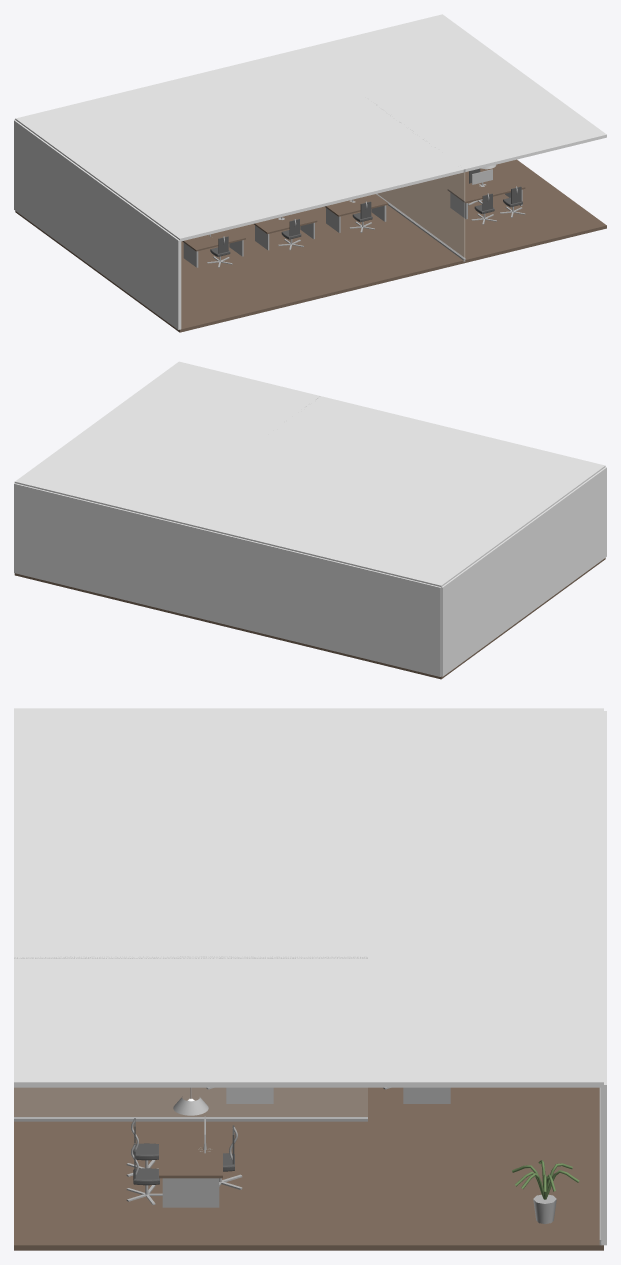
Rendered from a-fully-furnished-modern-architectural-office-interior-with-aaa-grade-precision-featuring-detailed-modular-furniture-glass-partitions-and-realistic-materials.gltf.
The picture shows the model from 3 angles, top to bottom: view 1: azimuth 30°, elevation 25°; view 2: azimuth 150°, elevation 25°; view 3: azimuth 270°, elevation 25°; orthographic projection. The views are drawn at different scales.
Bounding box in the file's own units: 30.1 × 6.3 × 20.1.
